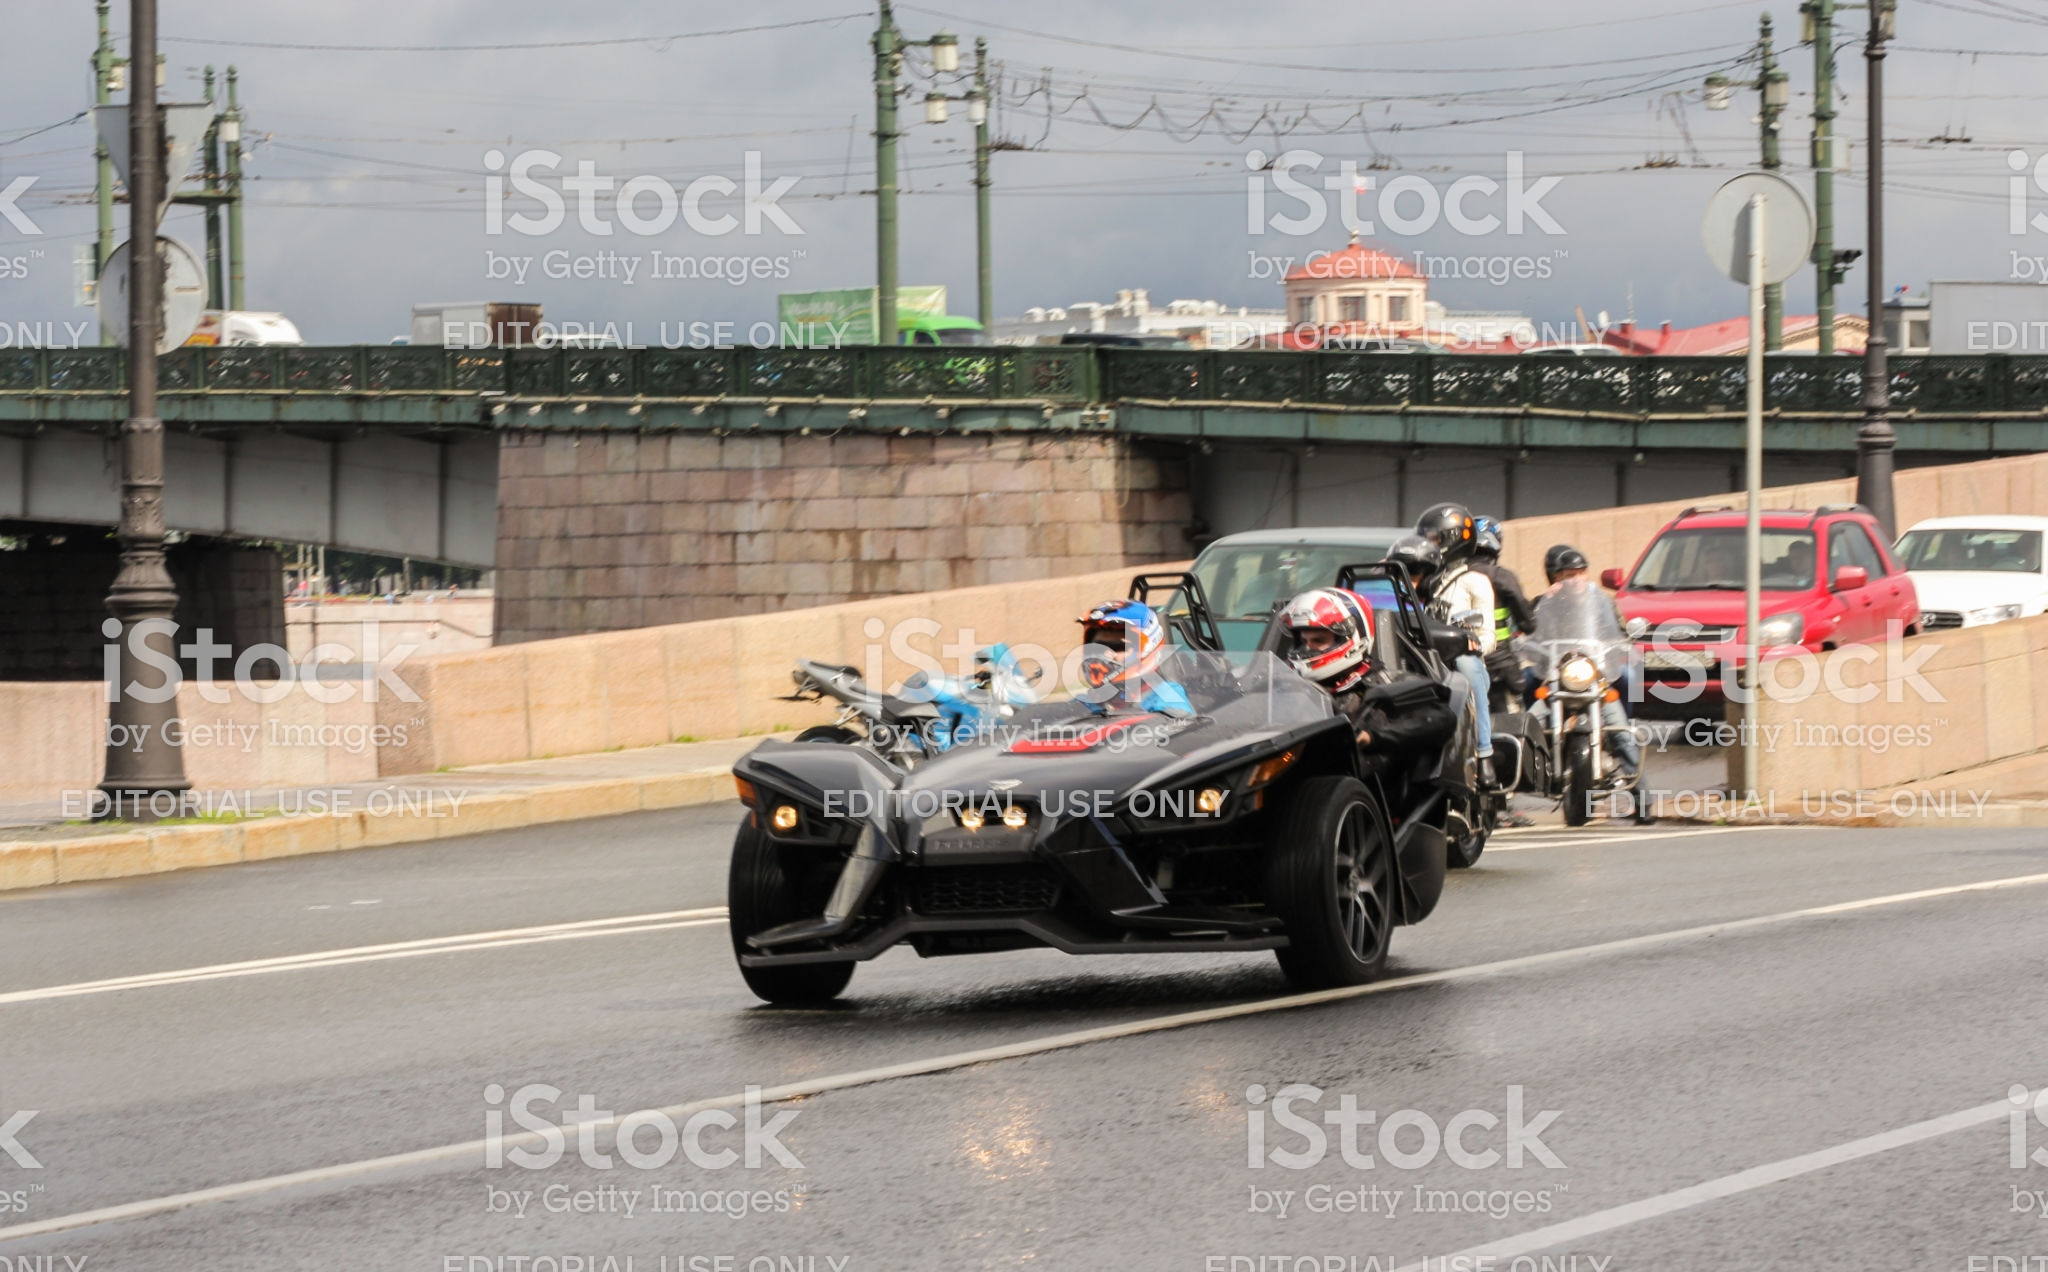helmet: (1275, 579, 1393, 673), (1066, 589, 1157, 687), (1420, 503, 1487, 558)
